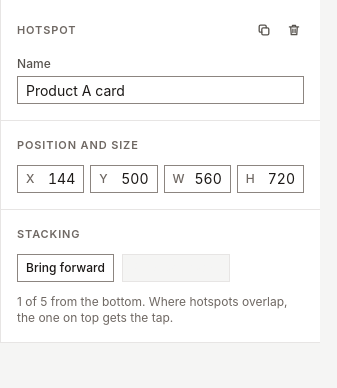
HotspotPanel › position and size (spec HS-2, ED-10) › keeps an invalid value in its field with the reason, and changes nothing until it is fixed
The width and height of the screenshot is (337, 388).
Replace the text in the field labelled "X" with "1600" at (58, 179), box [40, 169, 75, 189]
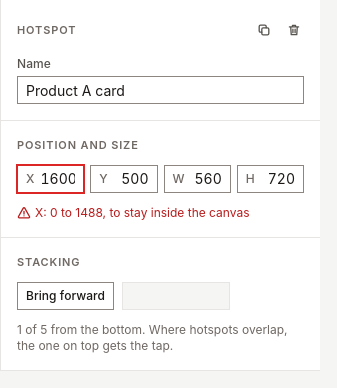
Check: the text "X: 0 to 1488, to stay inside the canvas" is shown, box [35, 205, 250, 221]
Leave the field labelled "X", box [40, 169, 75, 189]
Replace the text in the field labelled "X" with "1488" at (58, 179), box [40, 169, 75, 189]
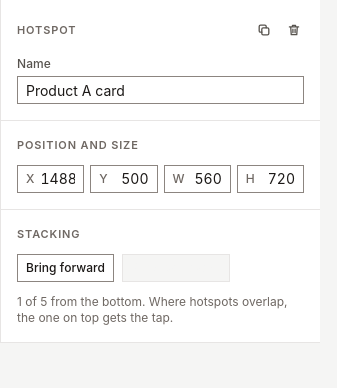
Check: the text "to stay inside the canvas" is gone
